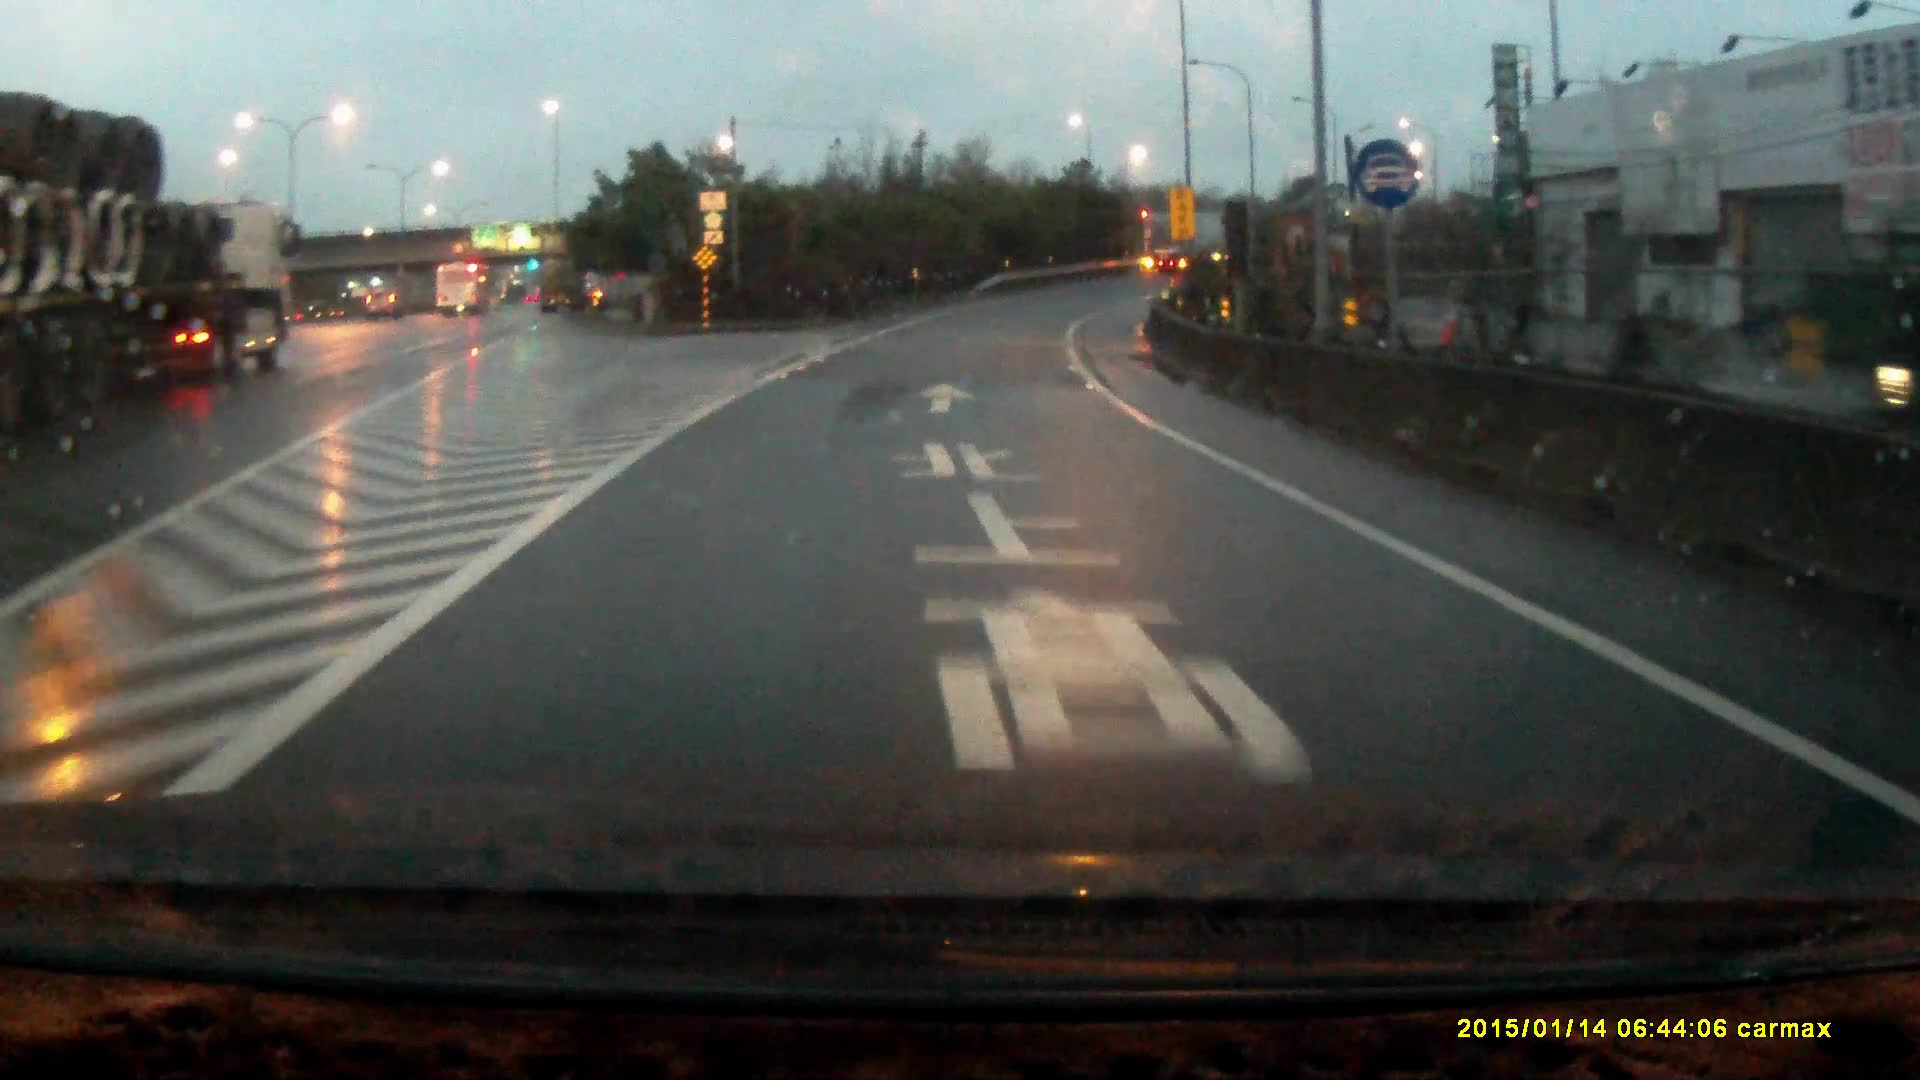vehicle: (1, 98, 307, 429), (1142, 215, 1236, 277), (435, 261, 497, 320), (367, 290, 402, 320)
